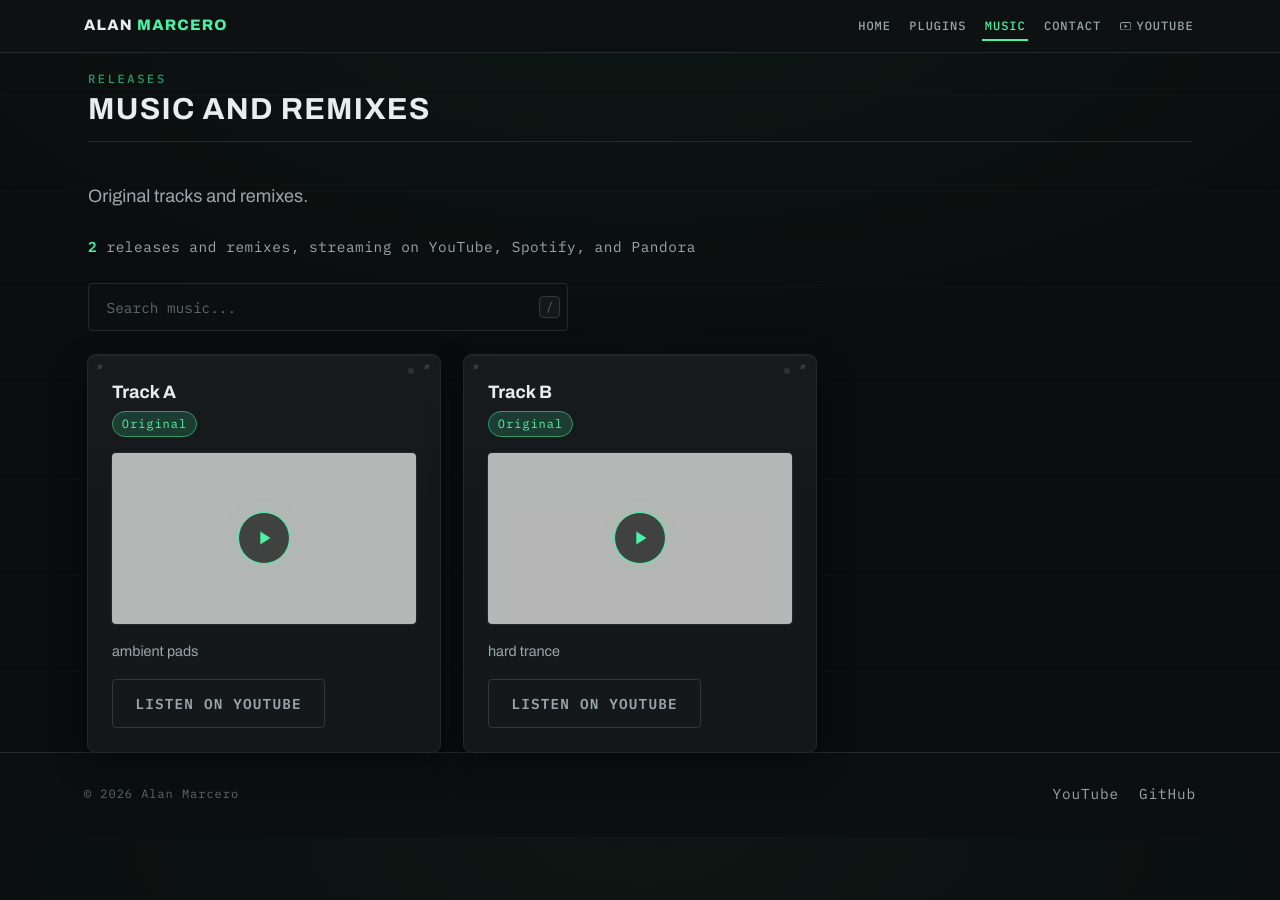
Test: MusicPage › fetches from LAMBDA_URL and renders the tracks
The width and height of the screenshot is (1280, 900).
Expected: the heading "Track A" is shown, [112,379,176,403]
Expected: the heading "Track B" is shown, [488,379,552,403]
In the search field with placeholder "Search music...": [328, 307] box [88,283,568,331], type "ambient"
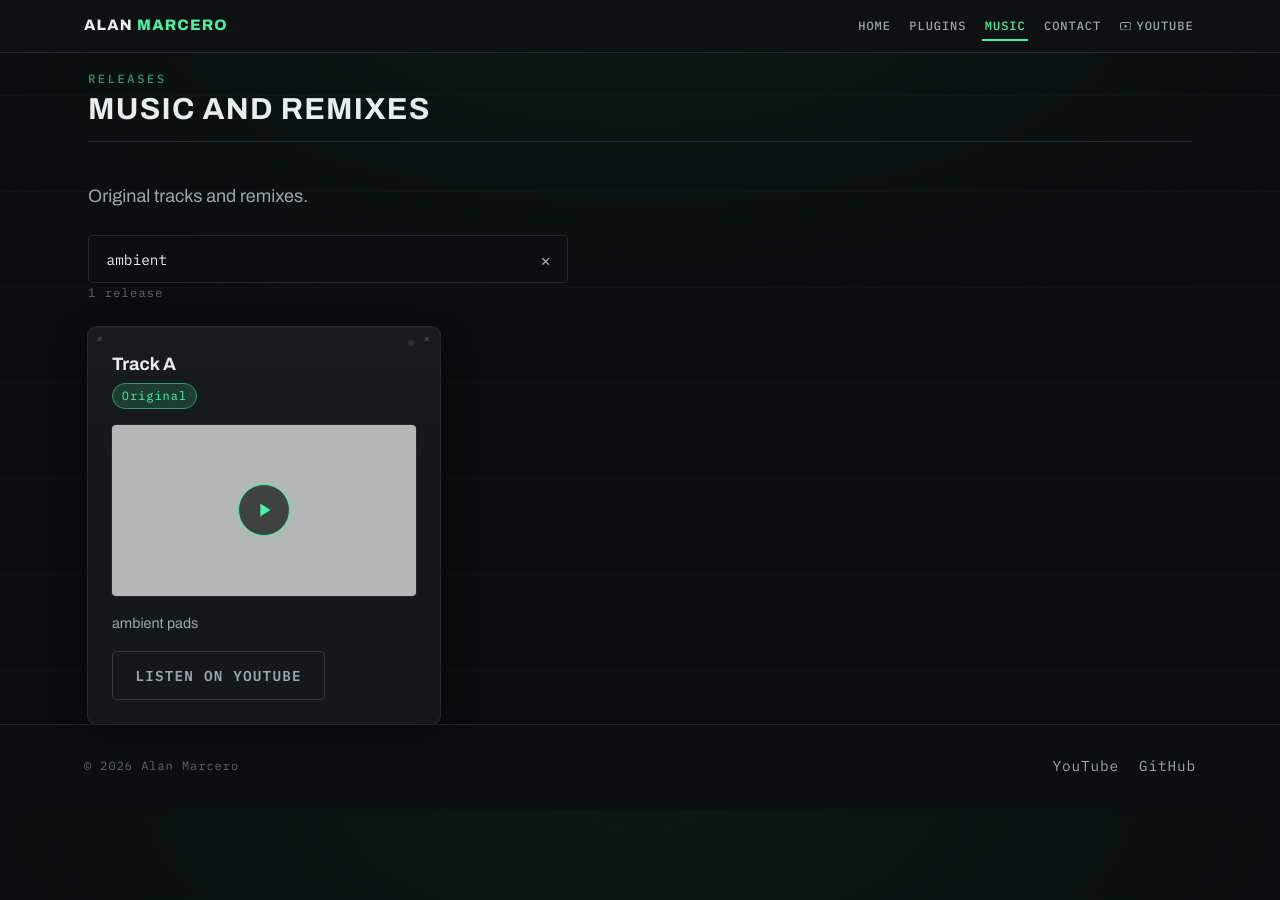
Expected: the heading "Track A" is shown, [112,351,176,375]
Result: the heading "Track B" is gone
